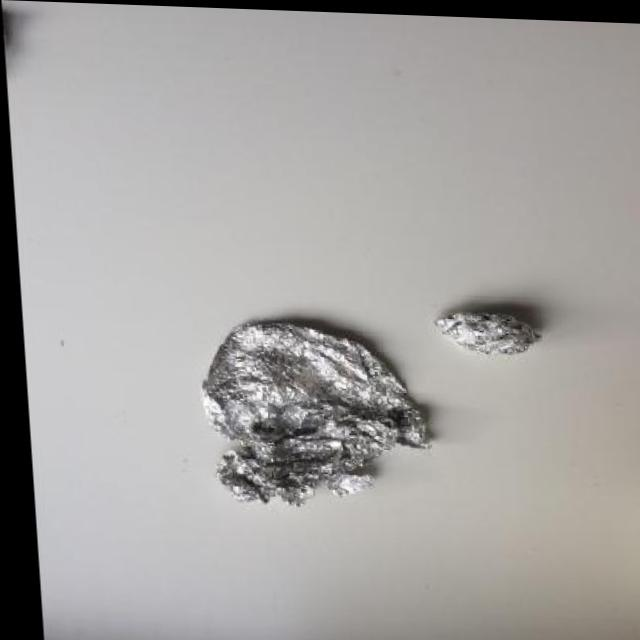metal: (192, 314, 439, 512), (429, 306, 542, 359)
